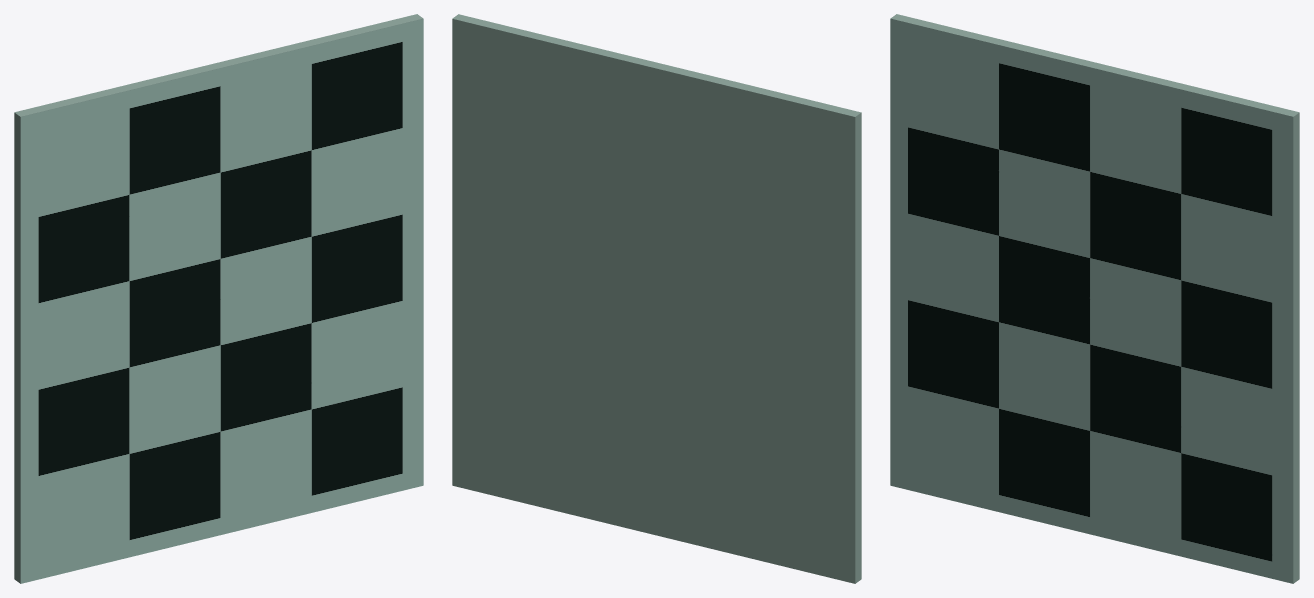
File: local.glb
3 renders of one model, left to right at view 1: azimuth 30°, elevation 25°; view 2: azimuth 150°, elevation 25°; view 3: azimuth 330°, elevation 25°, orthographic.
Parts seen in each view (by area): view 1: rear_checker_card; view 2: rear_checker_card; view 3: rear_checker_card.
Part boxes in pixels (x1,y1,x2,y2): rear_checker_card: (14, 14, 423, 583); rear_checker_card: (452, 14, 861, 583); rear_checker_card: (890, 14, 1299, 583).
Size of the model in its own units: 0.056 by 0.062 by 0.00155.
Materials: 2 (1 with a texture image).
